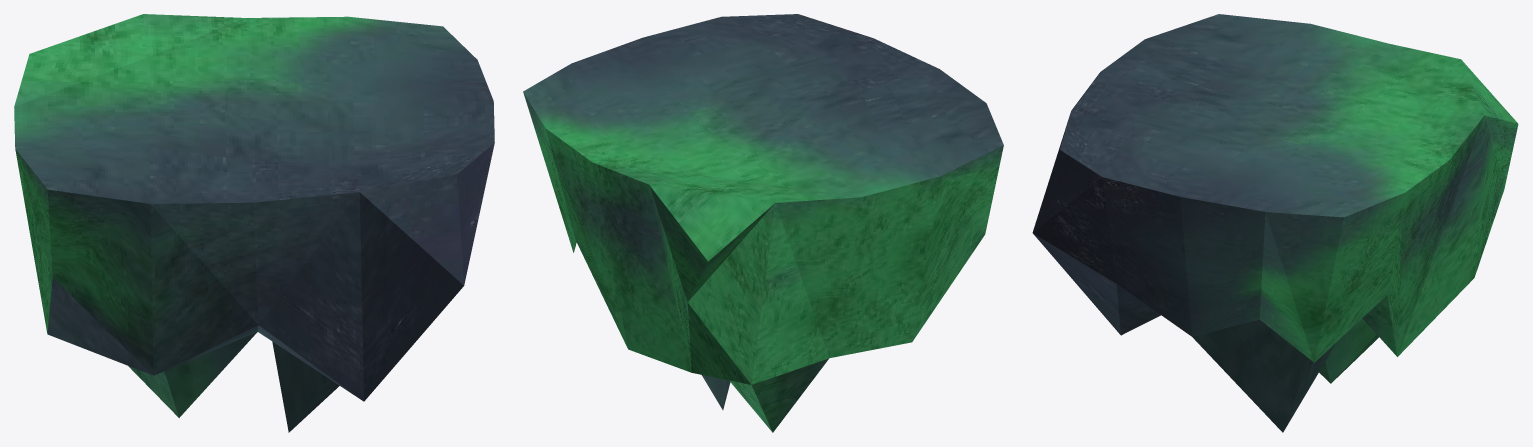
The model's file is piso_tierra.glb.
3 renders of one model, left to right at view 1: azimuth 30°, elevation 25°; view 2: azimuth 150°, elevation 25°; view 3: azimuth 270°, elevation 25°, orthographic. The views are drawn at different scales.
Visible parts, largest first — view 1: Isla_2; view 2: Isla_2; view 3: Isla_2.
Part boxes in pixels (<box>): Isla_2: <box>14,14,494,432</box>; Isla_2: <box>523,14,1003,432</box>; Isla_2: <box>1032,14,1518,432</box>.
Bounding box in the file's own units: 1.71 × 1.21 × 1.74.
1 material, 1 textured.
